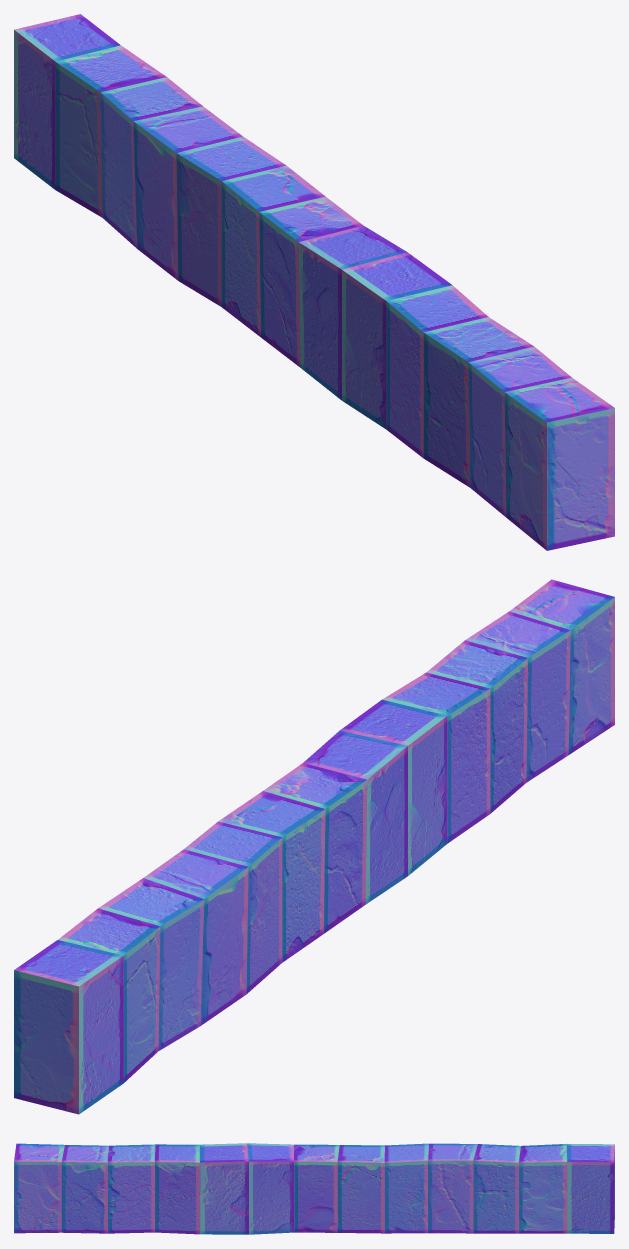
Rendered from Dungeon_FloorLedgeLOD.fbx.
The picture shows the model from 3 angles, top to bottom: view 1: azimuth 30°, elevation 25°; view 2: azimuth 150°, elevation 25°; view 3: azimuth 270°, elevation 25°; orthographic projection. The views are drawn at different scales.
Visible parts, largest first — view 1: Mesh_LOD1; view 2: Mesh_LOD1; view 3: Mesh_LOD1.
Part boxes in pixels (bbox=[...]): Mesh_LOD1: bbox=[14, 14, 614, 550]; Mesh_LOD1: bbox=[14, 579, 614, 1114]; Mesh_LOD1: bbox=[14, 1143, 614, 1234].
Bounding box in the file's own units: 0.345 × 0.5947 × 4.43.
1 material, 1 textured.
